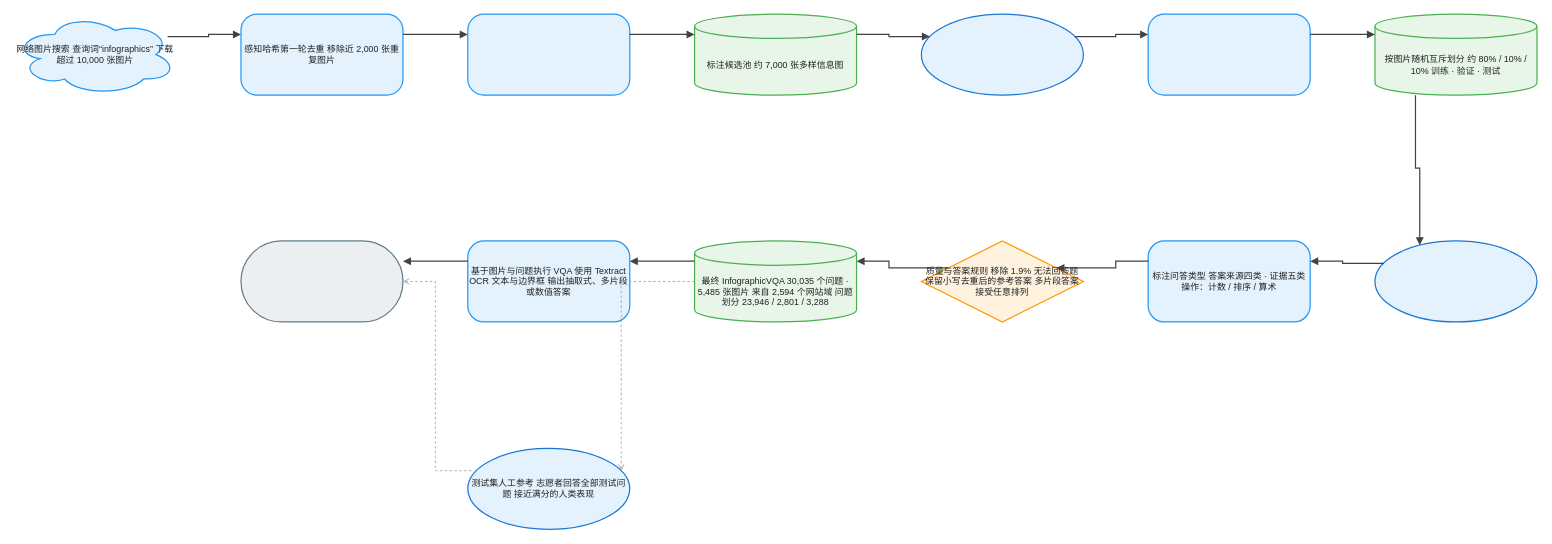
The diagram is 1552 pixels wide and 544 high, and some of its shapes have lost their labels. The box of each missing label's shape, as (x1, y1, x2, y2) in pixels:
主指标 ANLS + 严格准确率 统一小写 · 多参考取最佳 归一化编辑相似度阈值 0.5: (240, 240, 403, 322)
放弃噪声超过 40% 的众包试点 内部工具 + 90 分钟讲解 + 测验 筛选 13 名可密切沟通的标注者: (920, 13, 1084, 95)
第一阶段标注 可拒绝不适合的图片 创建问题与答案对 超过 3 万题后停止: (1147, 13, 1310, 95)
第二轮去重 Amazon Textract OCR 文本词元 按 Jaccard 相似度比较: (467, 13, 630, 95)
验证与测试集第二阶段 不同标注者独立补充答案 可标记“无法回答”: (1374, 240, 1537, 322)
